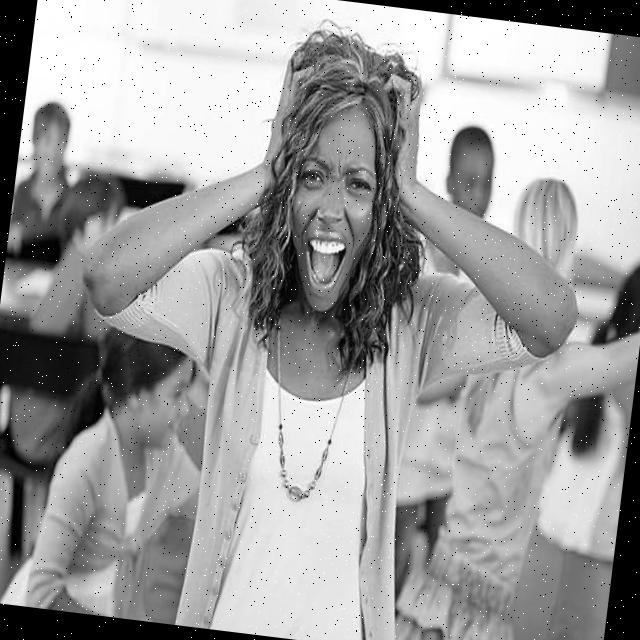Angry: (276, 100, 386, 316)
